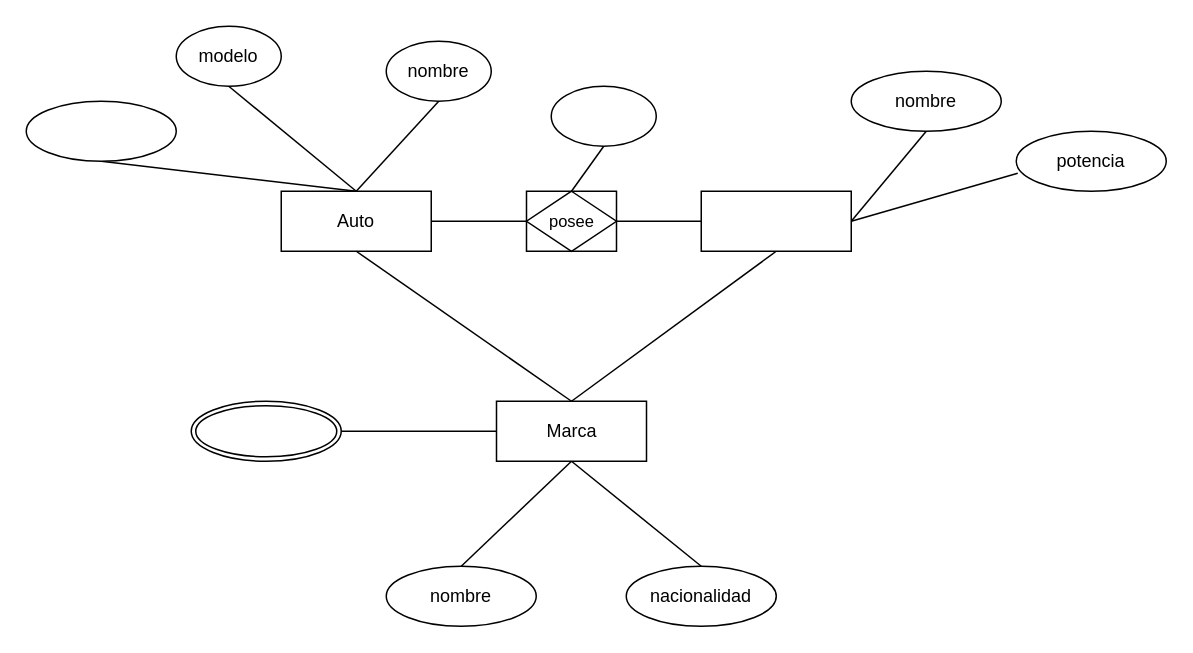
Some shapes in this 1193 by 653 pixel diagram are drawn without their labels. Here are the shapes that lost their labels. From the top down, the box of each, then its label:
(25, 100, 176, 161): precioActual
(550, 85, 656, 146): esCilindrada
(700, 190, 851, 251): Motor
(190, 400, 341, 461): idMarca
